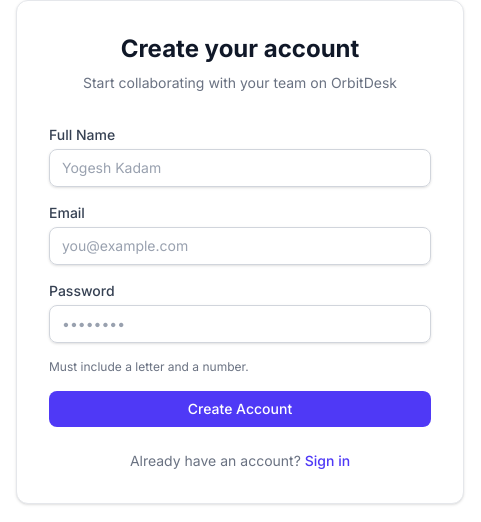
Test: RegisterForm › shows check email message on success
Type "Alex Smith" into the field labelled "Full Name" at (240, 168), box [49,149,431,187]
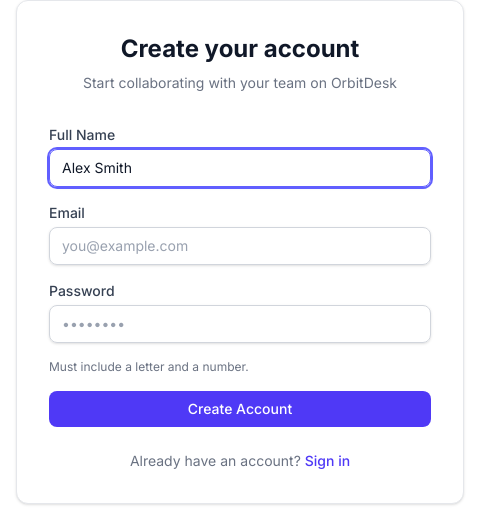
Type "alex@example.com" into the field labelled "Email" at (240, 246), box [49,227,431,265]
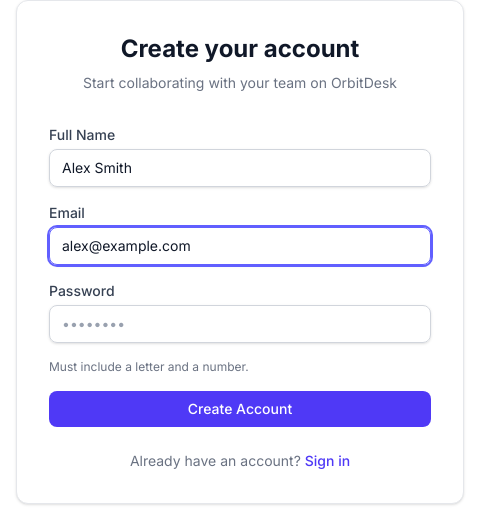
Type "password1" into the password field labelled "Password" at (240, 324), box [49,305,431,343]
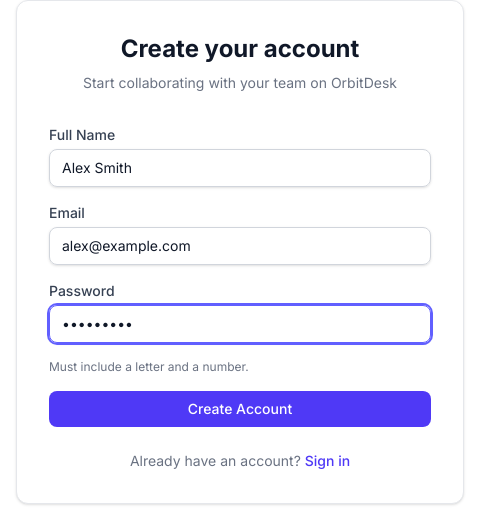
Click the button "Create Account" at (240, 409), box [49,391,431,427]
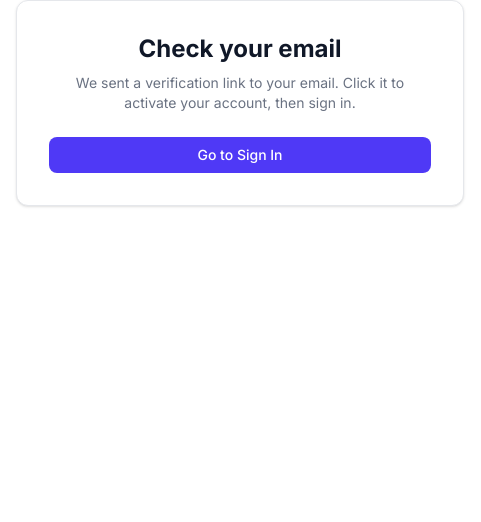
Result: the heading "Check your email" is shown at [138,34,342,63]
Result: the text "verification link" is shown at [76,74,404,111]
